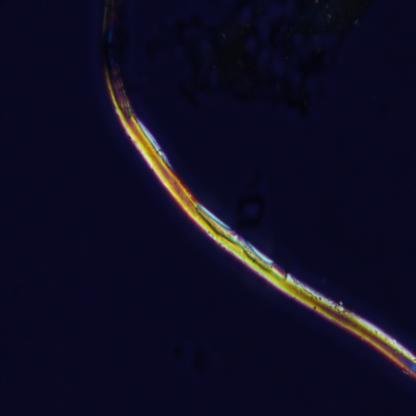Microfibre: (100, 3, 416, 385)
